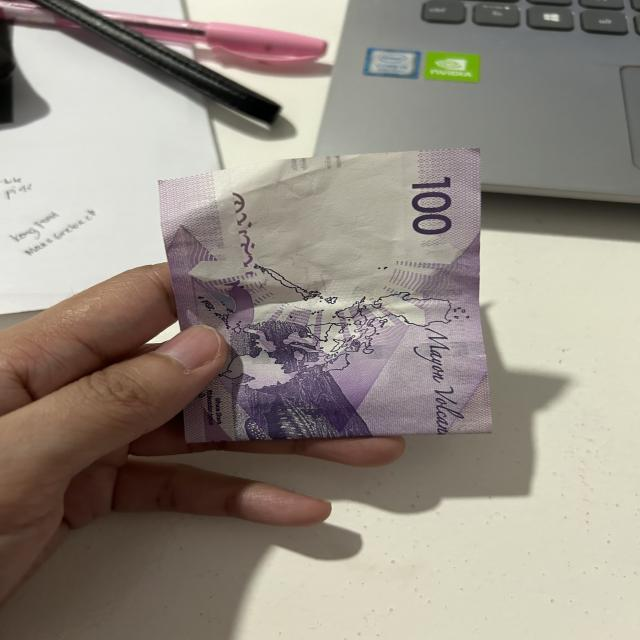100_whale: (243, 382, 331, 443)
100_whale_watermark: (217, 279, 267, 334)
value_watermark: (272, 178, 326, 200)
